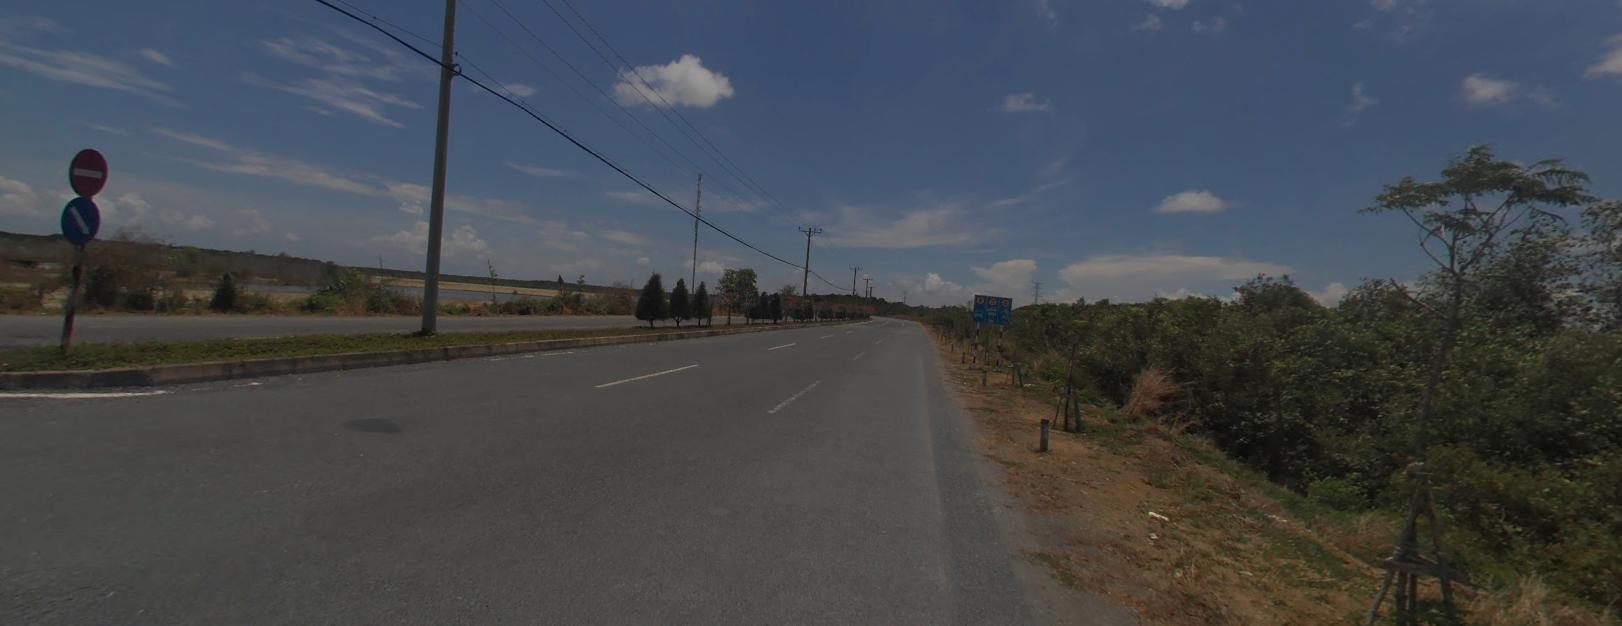Cam nguoc chieu: (67, 146, 107, 195)
Gioi han toc do: (975, 294, 984, 303), (1001, 296, 1009, 305), (989, 296, 996, 304)
Hieu lenh: (59, 196, 101, 245)
